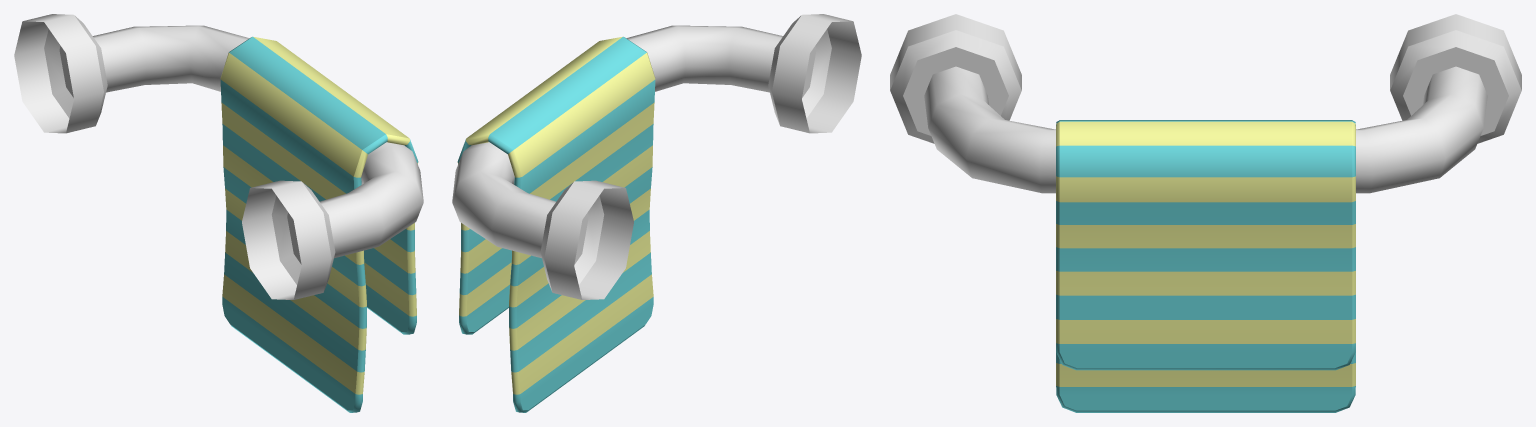
Rendered from Towel.glb.
The picture shows the model from 3 angles, left to right: view 1: azimuth 30°, elevation 25°; view 2: azimuth 150°, elevation 25°; view 3: azimuth 270°, elevation 25°; orthographic projection. The views are drawn at different scales.
Visible parts, largest first — view 1: Towel.001; view 2: Towel.001; view 3: Towel.001.
Part boxes in pixels (<box>): Towel.001: <box>14,14,423,412</box>; Towel.001: <box>452,14,861,412</box>; Towel.001: <box>890,14,1521,412</box>.
Size of the model in its own units: 0.1262 by 0.1847 by 0.3246.
